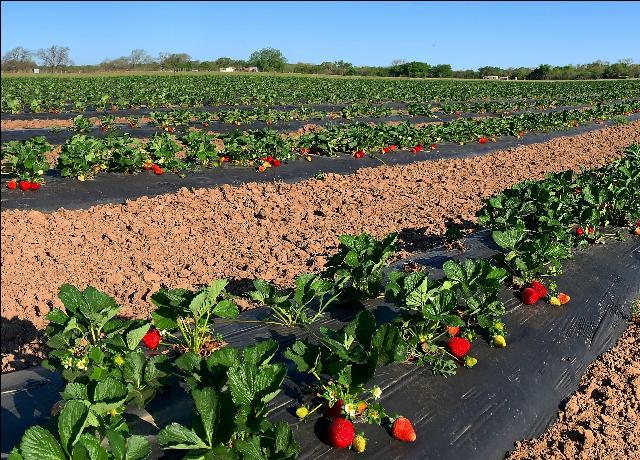Strawberries: (328, 418, 354, 448), (392, 418, 414, 442), (446, 336, 469, 358), (142, 323, 158, 351), (532, 280, 544, 300), (556, 291, 570, 303), (524, 288, 534, 304), (27, 179, 39, 192), (17, 178, 28, 192), (351, 148, 364, 158), (270, 157, 280, 168), (6, 178, 14, 190), (574, 226, 582, 236), (153, 166, 161, 174)
